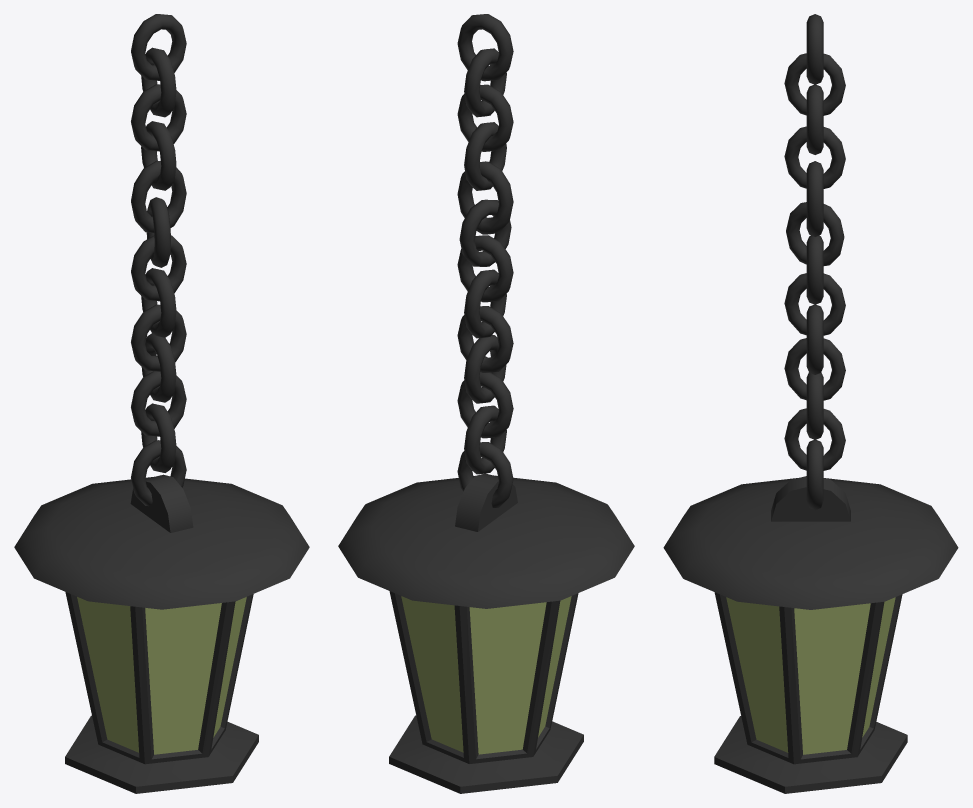
File: Wall_Lamp.fbx
The picture shows the model from 3 angles, left to right: view 1: azimuth 30°, elevation 25°; view 2: azimuth 150°, elevation 25°; view 3: azimuth 270°, elevation 25°; orthographic projection.
Parts seen in each view (by area): view 1: 1_WallLamp; view 2: 1_WallLamp; view 3: 1_WallLamp.
Boxes of the visible parts, left/top/right/bottom form: 1_WallLamp: left=14, top=14, right=309, bottom=793; 1_WallLamp: left=338, top=14, right=634, bottom=793; 1_WallLamp: left=663, top=14, right=958, bottom=793.
Bounding box in the file's own units: 34.6 × 96.6 × 34.6.
